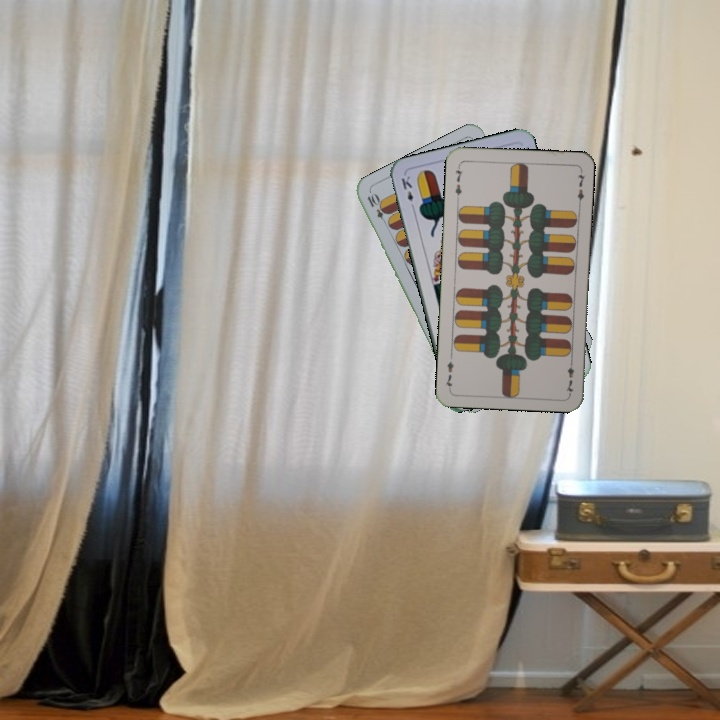E10: (363, 189, 391, 228)
E7: (562, 355, 577, 396), (451, 162, 466, 202)
EK: (397, 172, 417, 213)
